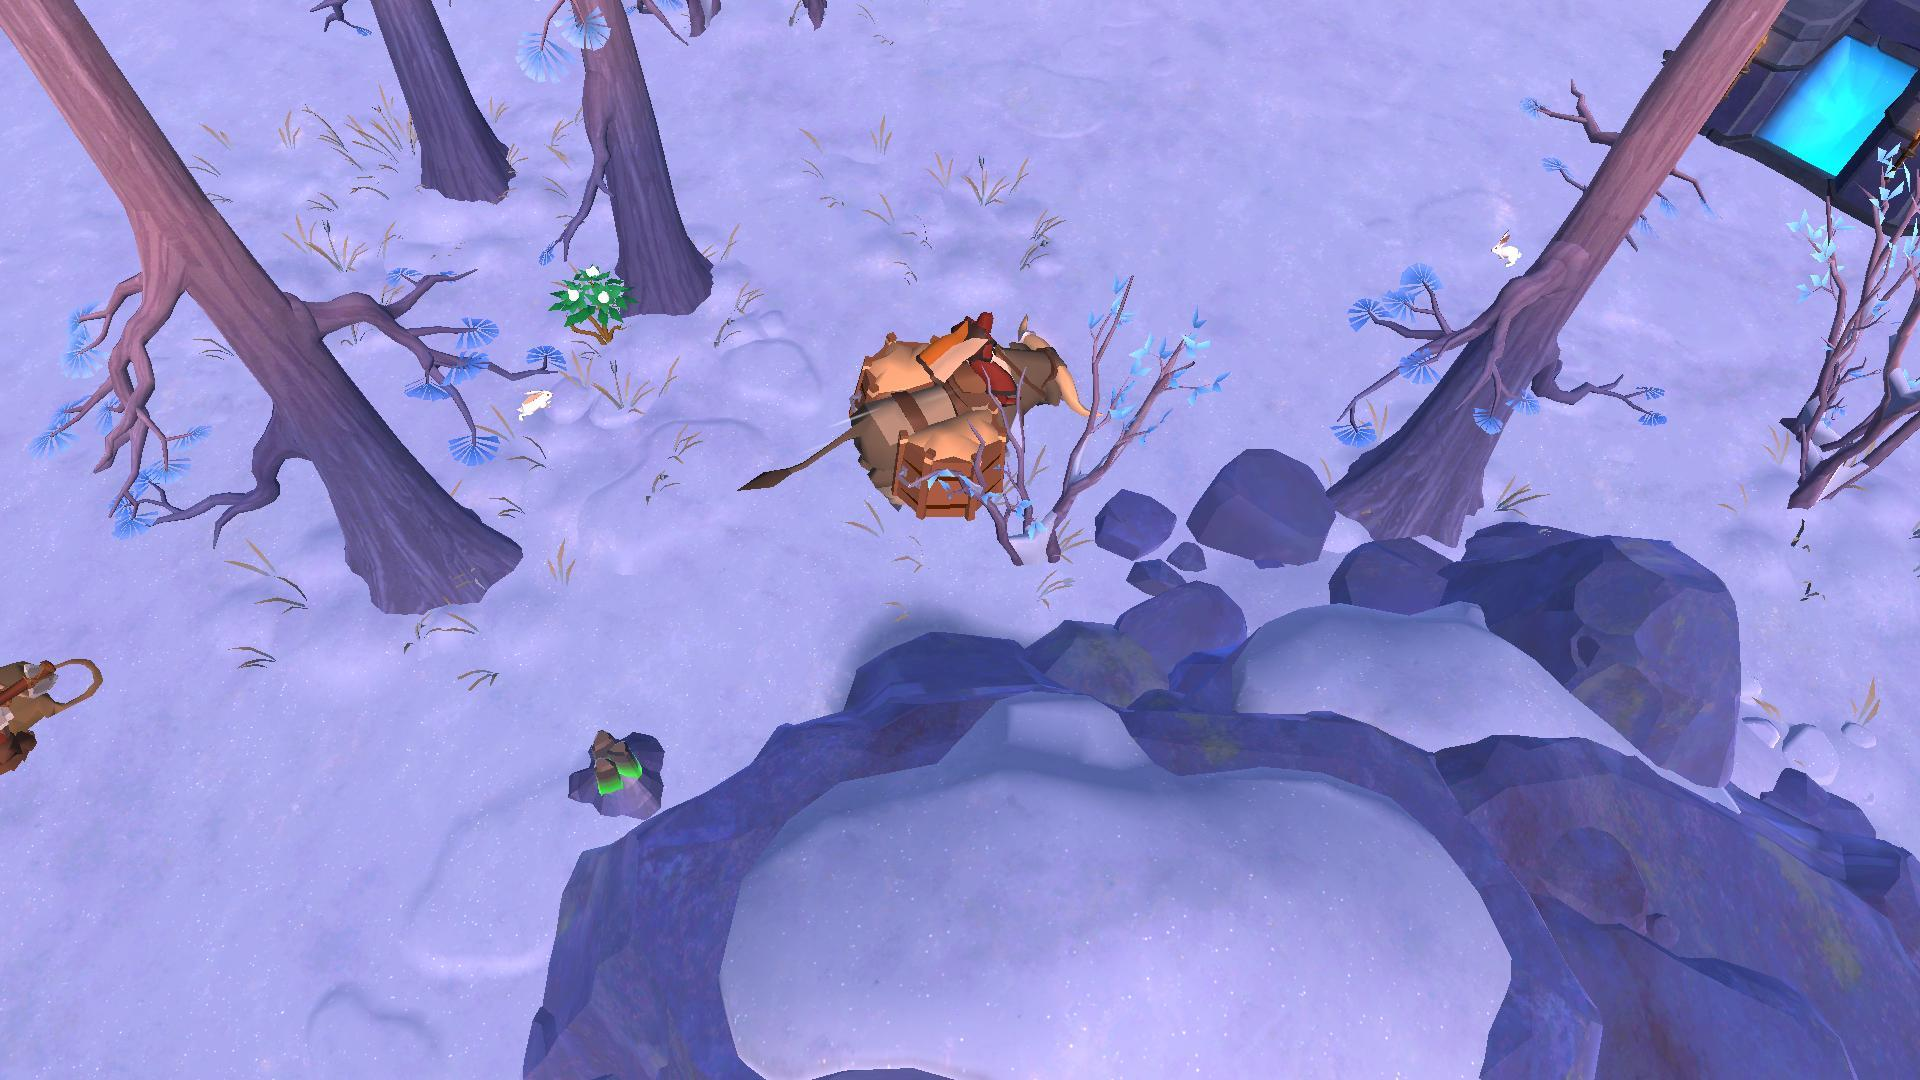fiber_t3: (546, 257, 629, 339)
ore_t3: (582, 725, 644, 800)
